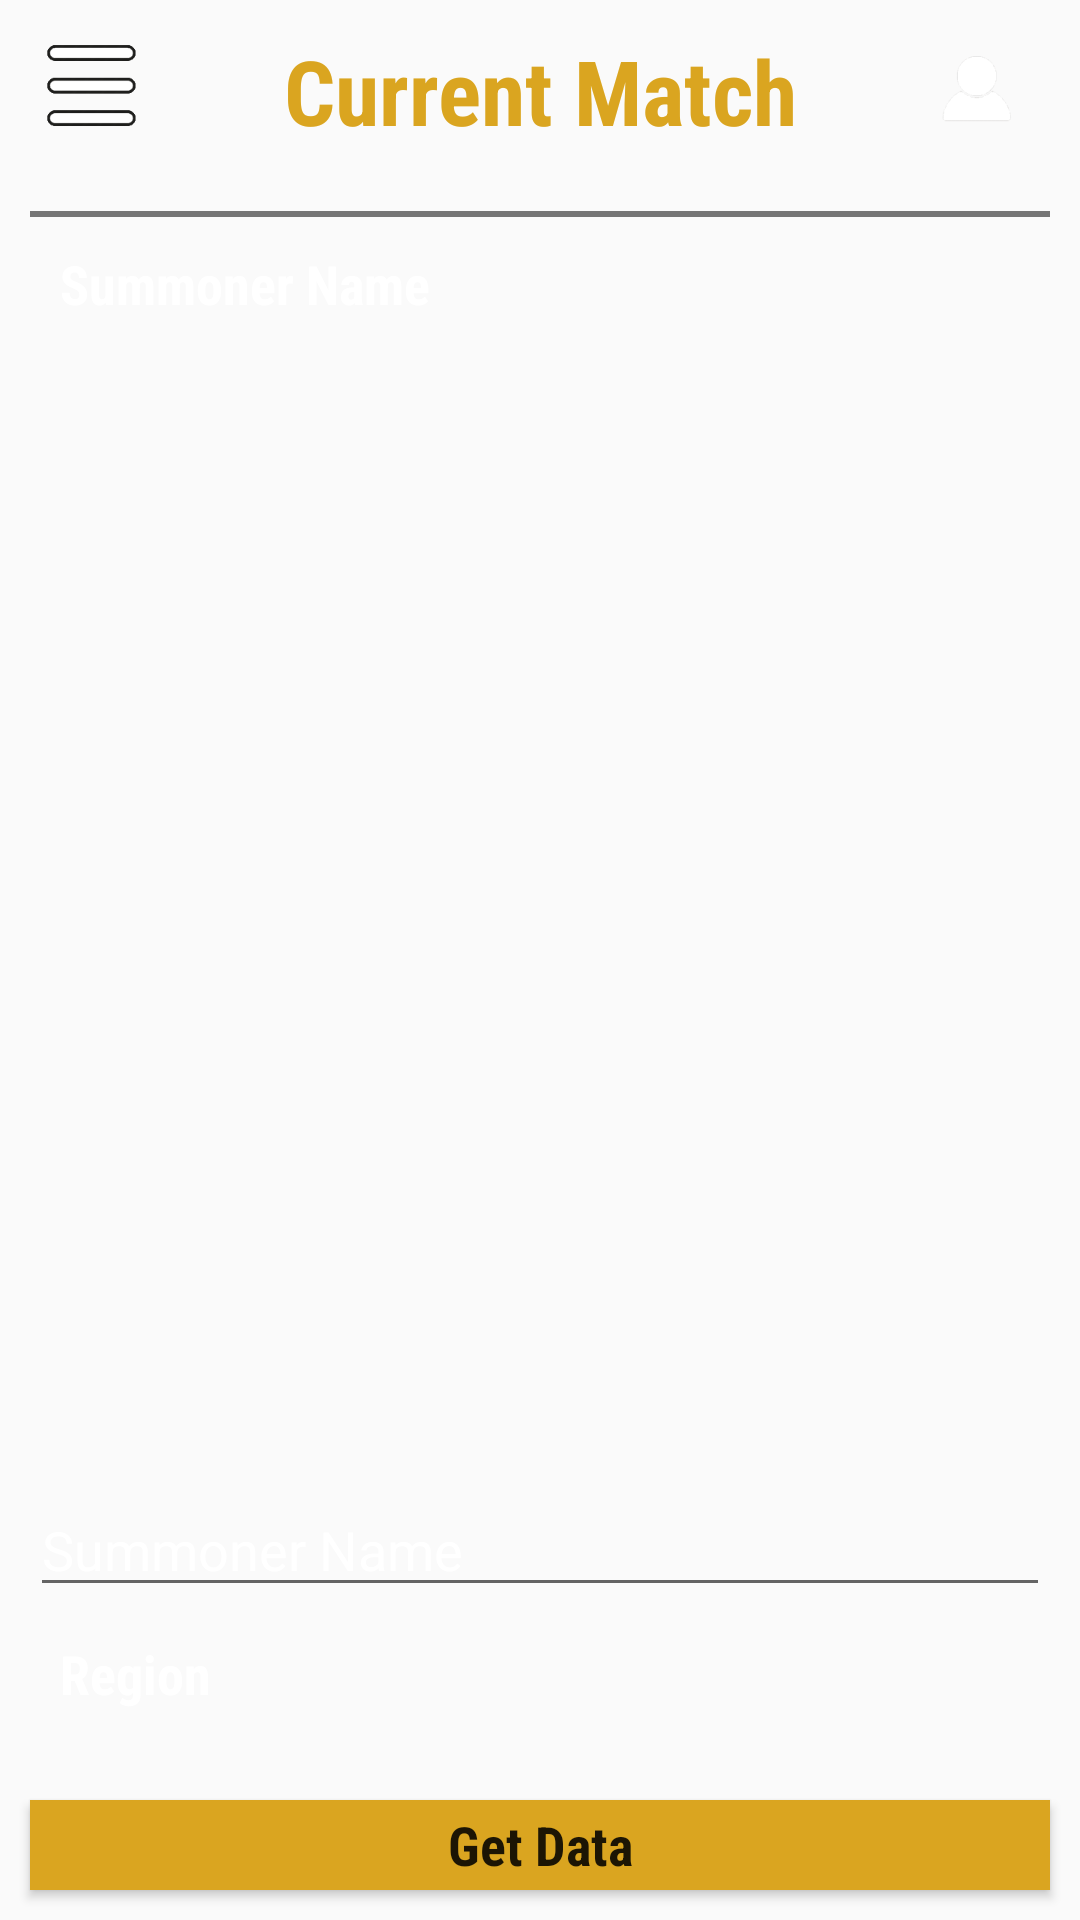

Icons on this 1080w x 1920h Android screen, each with its box as detection(x1, y1, x2, y2):
menu: detection(47, 45, 136, 126)
